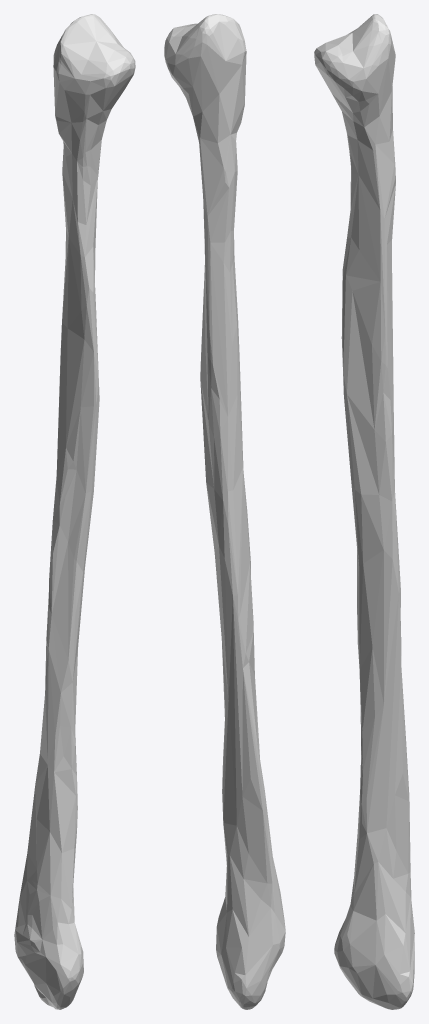
File: fibula.glb
3 renders of one model, left to right at view 1: azimuth 30°, elevation 25°; view 2: azimuth 210°, elevation 25°; view 3: azimuth 270°, elevation 25°, orthographic.
Parts seen in each view (by area): view 1: geometry_0; view 2: geometry_0; view 3: geometry_0.
Boxes of the visible parts, x1,y1,x2,y2 form: geometry_0: (14, 14, 135, 1009); geometry_0: (164, 14, 285, 1009); geometry_0: (314, 14, 414, 1009).
Size of the model in its own units: 0.1612 by 1.61 by 0.1465.
1 material, 1 textured.
